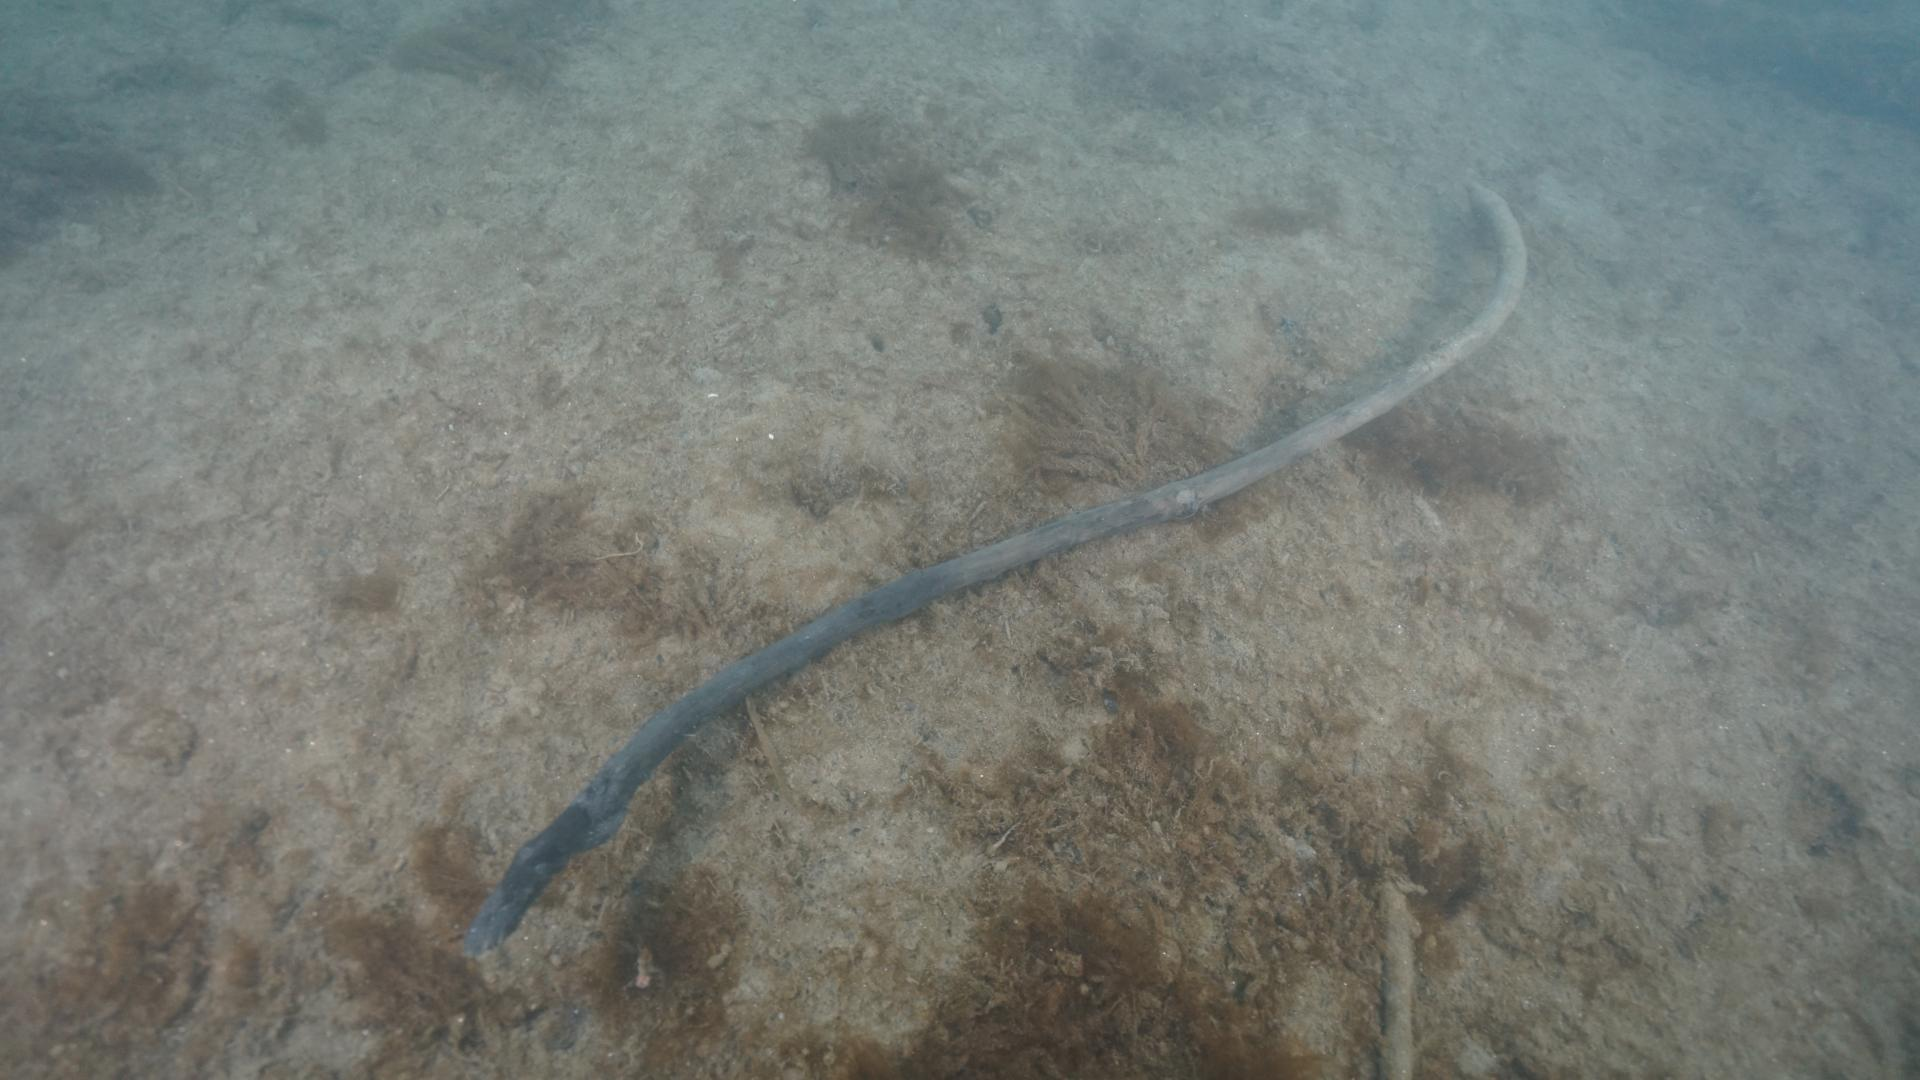wood: (462, 179, 1526, 960)
